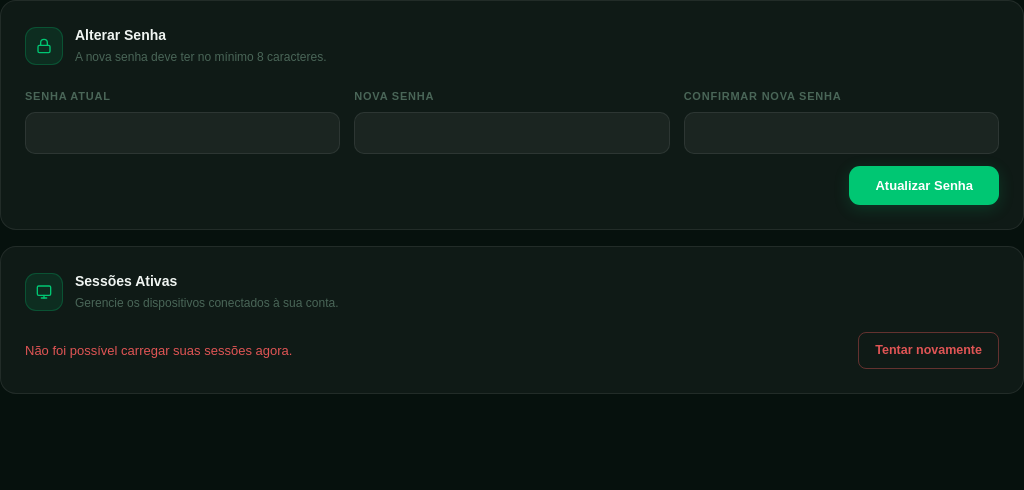
Test case: SecurityTab › erro ao carregar sessões mostra mensagem com "Tentar novamente" que recarrega
The width and height of the screenshot is (1024, 490).
Expected: the message shows "Não foi possível carregar suas sessões", [25,343,292,358]
Click the button "Tentar novamente" at {"x": 929, "y": 351}, box [858,332,999,369]
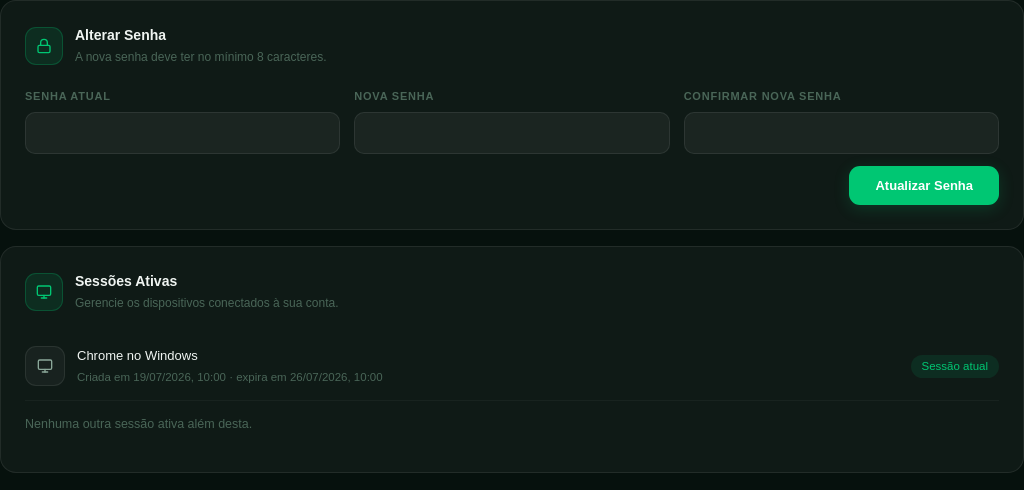
Now the text "Sessão atual" is shown, box [910,355,999,378]
